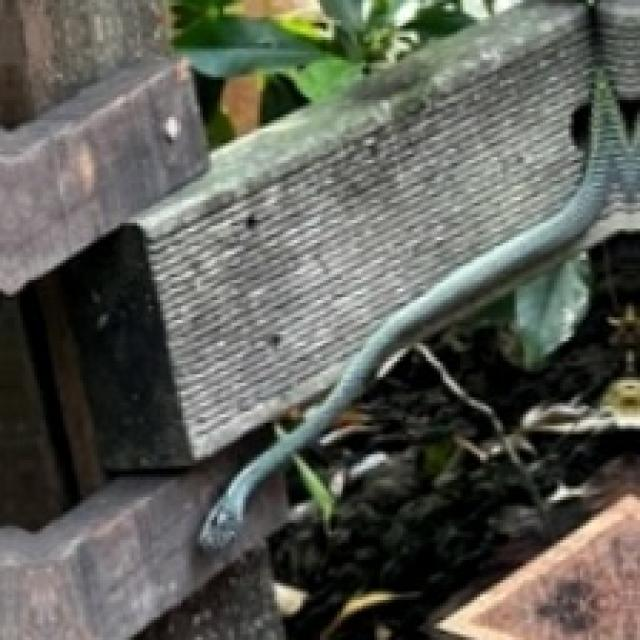paradise tree snake: (197, 66, 637, 549), (197, 69, 637, 549)
